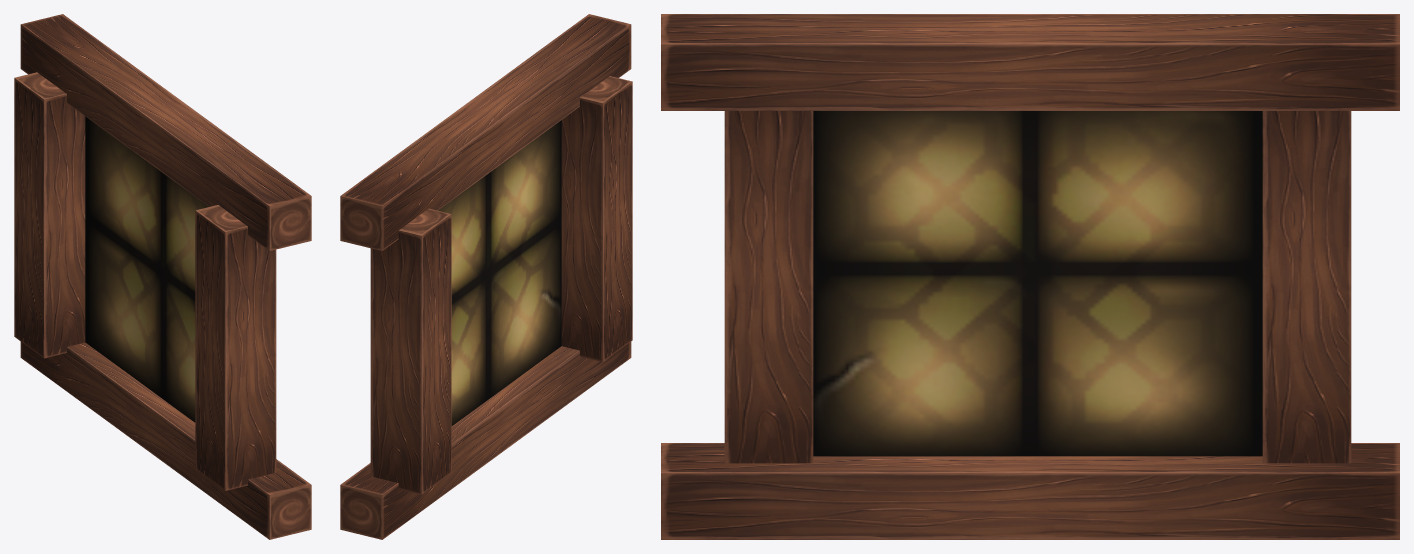
The model's file is window.fbx.
3 views of the same model, side by side, from view 1: azimuth 30°, elevation 25°; view 2: azimuth 150°, elevation 25°; view 3: azimuth 270°, elevation 25° (orthographic). The views are drawn at different scales.
Parts seen in each view (by area): view 1: polySurface44; view 2: polySurface44; view 3: polySurface44.
Boxes of the visible parts, x1,y1,x2,y2 form: polySurface44: (14,14,311,539); polySurface44: (340,14,632,539); polySurface44: (661,14,1399,539).
Bounding box in the file's own units: 0.301 × 1.47 × 1.99.
